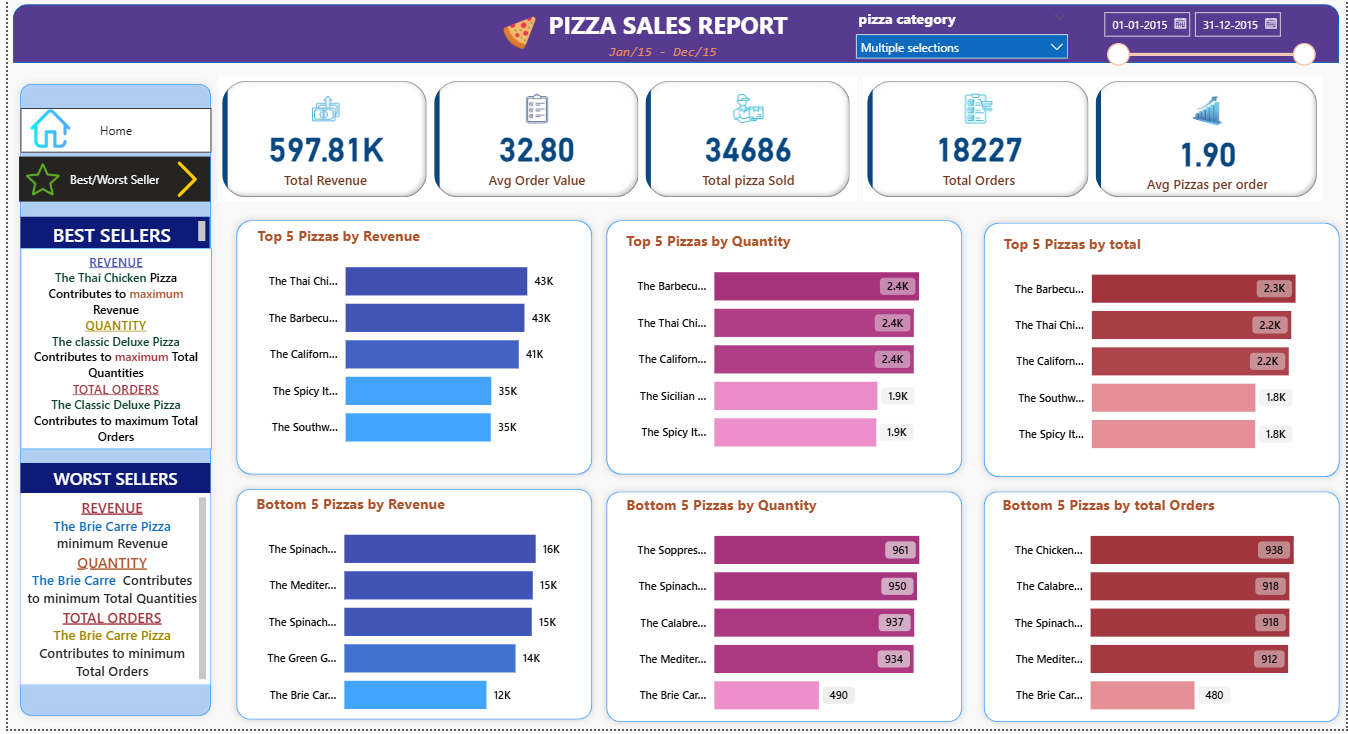

The page's visual inventory and layout, read from the dashboard file:
{"tool":"powerbi","page":{"name":"Best/Worst Seller","canvas":[1500,825],"ordinal":1},"visuals":[{"type":"cardVisual","fields":{"Data":["pizza_sales.Total Revenue","pizza_sales.Avg Order Value","pizza_sales.Total pizza Sold"]},"box":[235.4,93.9,716,140.1],"z":0},{"type":"cardVisual","fields":{"Data":["pizza_sales.Total Orders","pizza_sales.Avg Pizzas per order"]},"box":[958.4,93.9,514.2,140.1],"z":1000},{"type":"shape","box":[5.6,12.6,1486.6,65.9],"z":2000},{"type":"textbox","box":[587.1,12.6,305.5,47.6],"z":3000},{"type":"textbox","box":[668.4,51.8,142.9,51.8],"z":4000},{"type":"image","box":[494.6,21,158.3,47.6],"z":5000},{"type":"shape","box":[248,246.6,414.7,301.2],"z":6000},{"type":"shape","box":[5.6,93.9,229.8,724.4],"z":7000},{"type":"textbox","box":[14.5,250.9,212.3,35.4],"z":8000},{"type":"textbox","box":[14,285.8,214.4,225.6],"z":9000},{"type":"textbox","box":[14,526.8,213,35],"z":10000},{"type":"textbox","box":[14,560.5,213,214.4],"z":11000},{"type":"slicer","fields":{"Values":["pizza_sales.pizza_category"]},"box":[940.2,12.6,257.8,67.3],"z":12000},{"type":"slicer","fields":{"Values":["pizza_sales.order_date"]},"box":[1216.2,11.2,257.8,92.5],"z":13000},{"type":"shape","box":[662.7,246.6,414.7,301.2],"z":14000},{"type":"shape","box":[1085.9,249.4,414.7,301.2],"z":15000},{"type":"shape","box":[248,547.9,414.7,274.6],"z":16000},{"type":"shape","box":[662.7,550.7,414.7,274.6],"z":17000},{"type":"shape","box":[1085.9,550.7,414.7,274.6],"z":18000},{"type":"barChart","title":"Top 5 Pizzas by Revenue ","fields":{"Category":["pizza_sales.pizza_name"],"Y":["pizza_sales.Total Revenue"]},"box":[274.6,260.6,362.9,264.8],"z":19000},{"type":"barChart","title":"Bottom 5 Pizzas by Revenue ","fields":{"Category":["pizza_sales.pizza_name"],"Y":["pizza_sales.Total Revenue"]},"box":[273.2,560.5,362.9,264.8],"z":20000},{"type":"barChart","title":"Top 5 Pizzas by Quantity","fields":{"Category":["pizza_sales.pizza_name"],"Y":["pizza_sales.Total pizza Sold"]},"box":[688,266.2,362.9,264.8],"z":21000},{"type":"barChart","title":"Bottom 5 Pizzas by Quantity","fields":{"Category":["pizza_sales.pizza_name"],"Y":["pizza_sales.Total pizza Sold"]},"box":[688.3,561.2,363.4,263.7],"z":22000},{"type":"barChart","title":"Top 5 Pizzas by total ","fields":{"Category":["pizza_sales.pizza_name"],"Y":["pizza_sales.Total Orders"]},"box":[1111.2,268.5,363.4,263.7],"z":23000},{"type":"barChart","title":"Bottom 5 Pizzas by total Orders","fields":{"Category":["pizza_sales.pizza_name"],"Y":["pizza_sales.Total Orders"]},"box":[1109.6,561.2,363.4,263.7],"z":24000},{"type":"pageNavigator","box":[14,128.9,214.4,50.4],"z":25000},{"type":"pageNavigator","box":[12.6,183.6,214.4,50.4],"z":26000},{"type":"image","box":[142.9,183.6,116.3,50.4],"z":27000},{"type":"image","box":[14,124.7,67.3,54.6],"z":28000},{"type":"image","box":[15.4,176.5,47.6,64.5],"z":29000}]}

Visuals, with their boxes in screenshot pixels (x1, y1, x2, y2), scaled from the page's 1500x825 canvas onto the 1348x734 screenshot:
cardVisual - pizza_sales.Total Revenue x pizza_sales.Avg Order Value: box(212, 84, 855, 208)
cardVisual - pizza_sales.Total Orders x pizza_sales.Avg Pizzas per order: box(861, 84, 1323, 208)
shape: box(5, 11, 1341, 70)
textbox: box(528, 11, 802, 54)
textbox: box(601, 46, 729, 92)
image: box(444, 19, 587, 61)
shape: box(223, 219, 596, 487)
shape: box(5, 84, 212, 728)
textbox: box(13, 223, 204, 255)
textbox: box(13, 254, 205, 455)
textbox: box(13, 469, 204, 500)
textbox: box(13, 499, 204, 689)
slicer - pizza_sales.pizza_category: box(845, 11, 1077, 71)
slicer - pizza_sales.order_date: box(1093, 10, 1325, 92)
shape: box(596, 219, 968, 487)
shape: box(976, 222, 1347, 490)
shape: box(223, 487, 596, 732)
shape: box(596, 490, 968, 733)
shape: box(976, 490, 1347, 733)
"Top 5 Pizzas by Revenue " barChart: box(247, 232, 573, 467)
"Bottom 5 Pizzas by Revenue " barChart: box(246, 499, 572, 733)
"Top 5 Pizzas by Quantity" barChart: box(618, 237, 944, 472)
"Bottom 5 Pizzas by Quantity" barChart: box(619, 499, 945, 733)
"Top 5 Pizzas by total " barChart: box(999, 239, 1325, 473)
"Bottom 5 Pizzas by total Orders" barChart: box(997, 499, 1324, 733)
pageNavigator: box(13, 115, 205, 160)
pageNavigator: box(11, 163, 204, 208)
image: box(128, 163, 233, 208)
image: box(13, 111, 73, 160)
image: box(14, 157, 57, 214)
